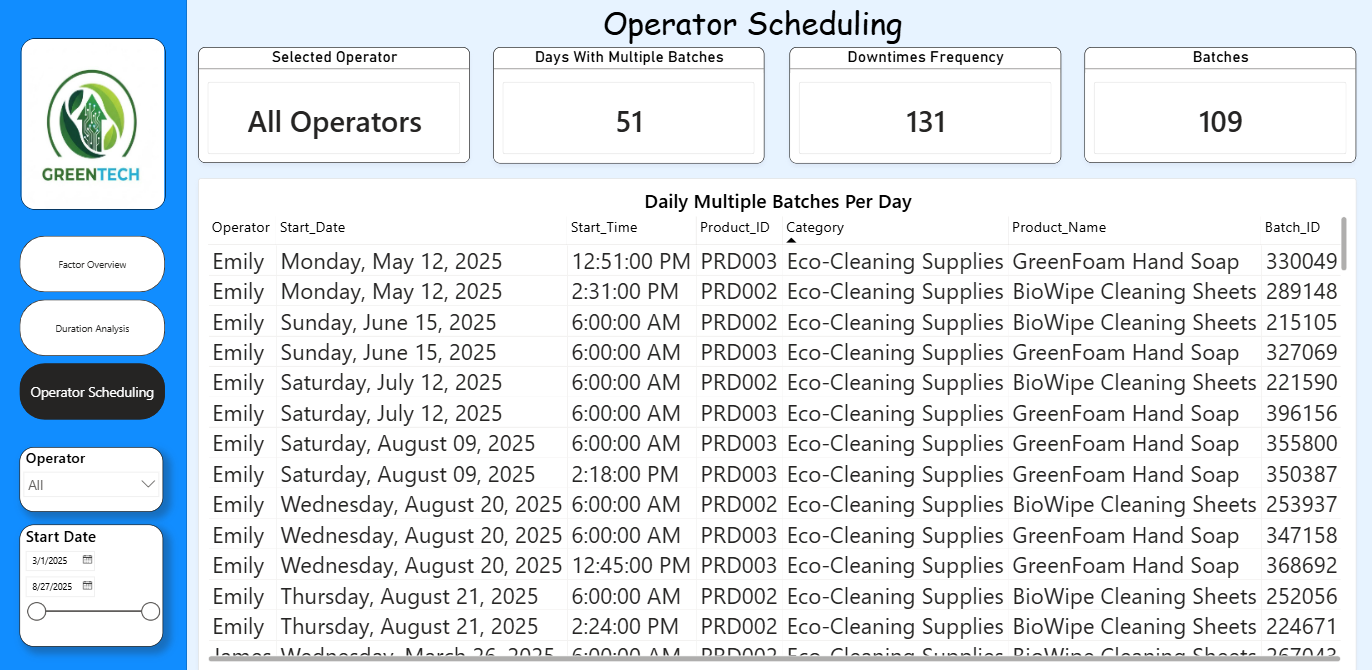

What the dashboard file says about the page in this screenshot:
{"tool":"powerbi","page":{"name":"Operator Scheduling","canvas":[1900,930],"ordinal":2},"visuals":[{"type":"textbox","box":[645.5,0,795.7,89.8],"z":0},{"type":"shape","box":[0,0,262.4,930.3],"z":2000},{"type":"cardVisual","title":"Selected Operator","fields":{"Data":["batch_pd.selelected operator"]},"box":[277.2,69.8,375,160],"z":3000},{"type":"cardVisual","title":"Days With Multiple Batches","fields":{"Data":["Count(batch_pd.Start_Date)"]},"box":[685.7,69.8,374.5,160.8],"z":4000},{"type":"cardVisual","title":"Downtimes Frequency","fields":{"Data":["CountNonNull(downtimes.Factor_ID)"]},"box":[1093.7,69.8,375,160.8],"z":7000},{"type":"cardVisual","title":"Batches","fields":{"Data":["CountNonNull(batch_pd.Batch_ID)"]},"box":[1502.2,69.8,375,160],"z":8000},{"type":"slicer","fields":{"Values":["batch_pd.Operator"]},"box":[31.1,621.4,198.5,89.8],"z":9000},{"type":"slicer","fields":{"Values":["batch_pd.Start_Date"]},"box":[31.1,728.4,198.5,169.2],"z":10000},{"type":"image","box":[32.1,57,199.6,237.1],"z":11000},{"type":"pageNavigator","box":[30.3,329.7,201.4,254.9],"z":12000},{"type":"tableEx","title":"Daily Multiple Batches Per Day","fields":{"Values":["batch_pd.Operator","batch_pd.Start_Date","batch_pd.Start_Time","batch_pd.Product_ID","products.Category","products.Product_Name","batch_pd.Batch_ID"]},"box":[277.2,249.7,1599.6,681.3],"z":13000}]}

Visuals, with their boxes on the page's 1900x930 design canvas (x1, y1, x2, y2). These are canvas units, not pixel positions in the 1372x670 screenshot, which may show the page scaled, cropped or inside an application window:
textbox: (left=646, top=0, right=1441, bottom=90)
shape: (left=0, top=0, right=262, bottom=930)
"Selected Operator" cardVisual: (left=277, top=70, right=652, bottom=230)
"Days With Multiple Batches" cardVisual: (left=686, top=70, right=1060, bottom=231)
"Downtimes Frequency" cardVisual: (left=1094, top=70, right=1469, bottom=231)
"Batches" cardVisual: (left=1502, top=70, right=1877, bottom=230)
slicer - batch_pd.Operator: (left=31, top=621, right=230, bottom=711)
slicer - batch_pd.Start_Date: (left=31, top=728, right=230, bottom=898)
image: (left=32, top=57, right=232, bottom=294)
pageNavigator: (left=30, top=330, right=232, bottom=585)
"Daily Multiple Batches Per Day" tableEx: (left=277, top=250, right=1877, bottom=931)
